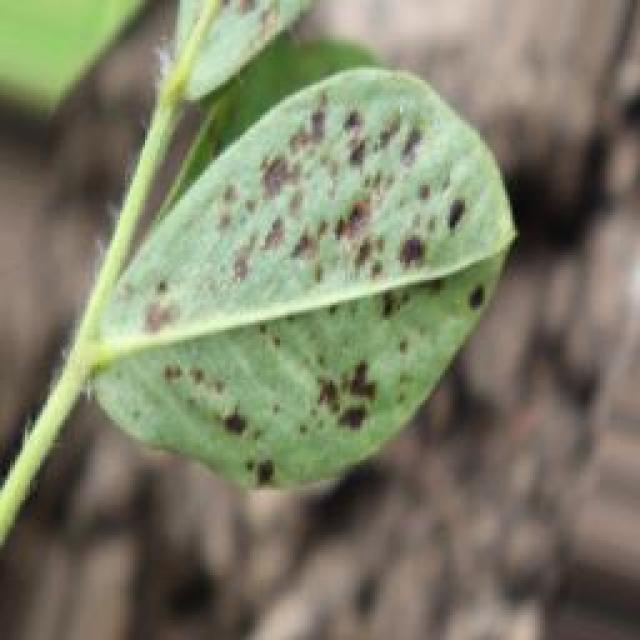Whitefly: (114, 0, 500, 493)
